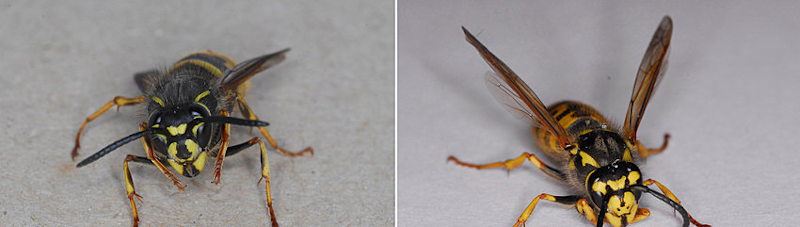chax: (440, 7, 722, 226), (67, 36, 321, 227)
